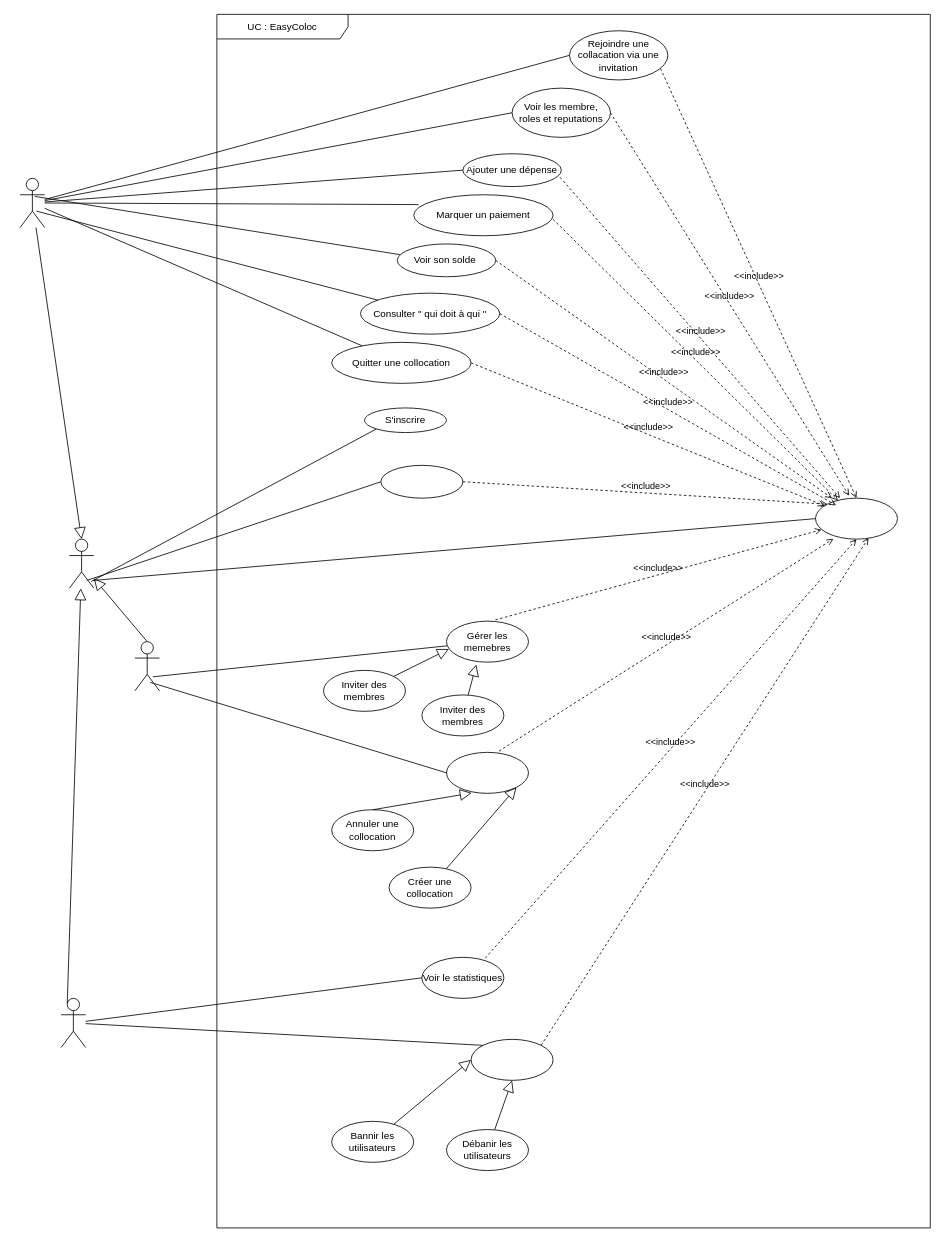
This 945x1242 diagram has some shape labels left out. The shapes that lost their labels are listed below. From the top down, each one's centre as x and y in pixels, then its label:
point (32, 203): Member
point (421, 481): Gérer le profil
point (856, 518): Se connecter
point (81, 563): User
point (146, 666): Owner
point (487, 772): Gérer les collocations
point (73, 1023): Admin
point (511, 1059): Gérer les utilisateurs
